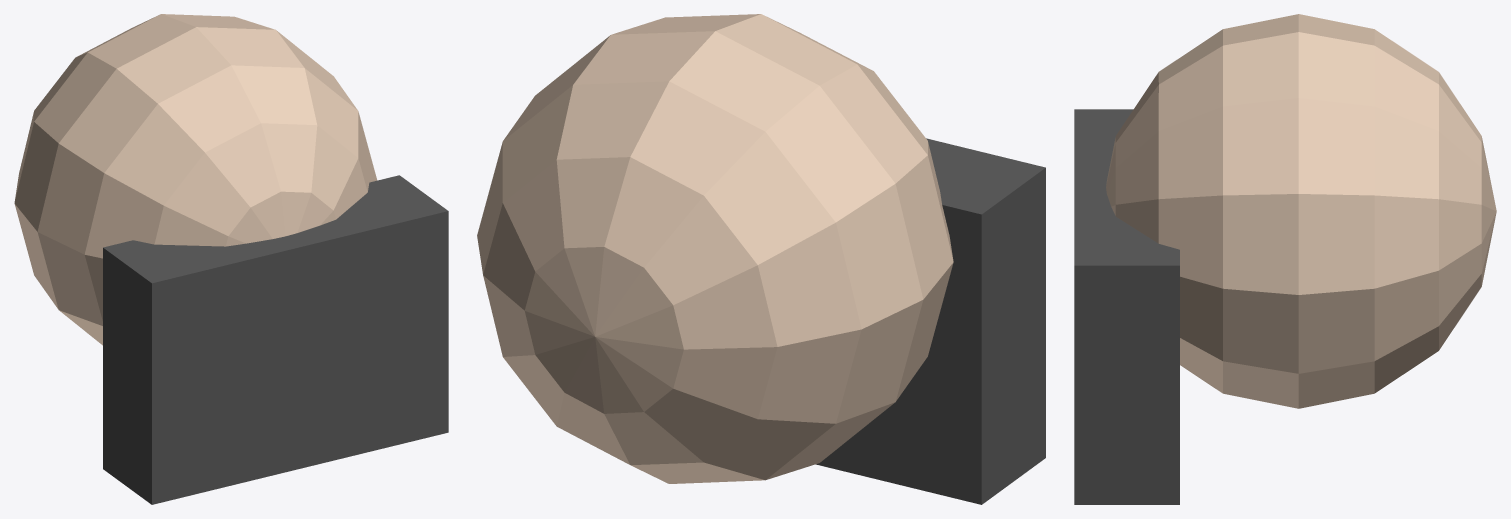
The model's file is beard_library.glb.
The picture shows the model from 3 angles, left to right: view 1: azimuth 30°, elevation 25°; view 2: azimuth 150°, elevation 25°; view 3: azimuth 270°, elevation 25°; orthographic projection. The views are drawn at different scales.
Visible parts, largest first — view 1: beard, head; view 2: head, beard; view 3: head, beard.
Boxes of the visible parts, left/top/right/bottom form: beard: left=103, top=175, right=448, bottom=504; head: left=14, top=14, right=377, bottom=345; head: left=477, top=14, right=953, bottom=483; beard: left=816, top=138, right=1045, bottom=504; head: left=1106, top=14, right=1496, bottom=408; beard: left=1074, top=109, right=1179, bottom=504.
Size of the model in its own units: 0.2998 by 0.3299 by 0.3199.
